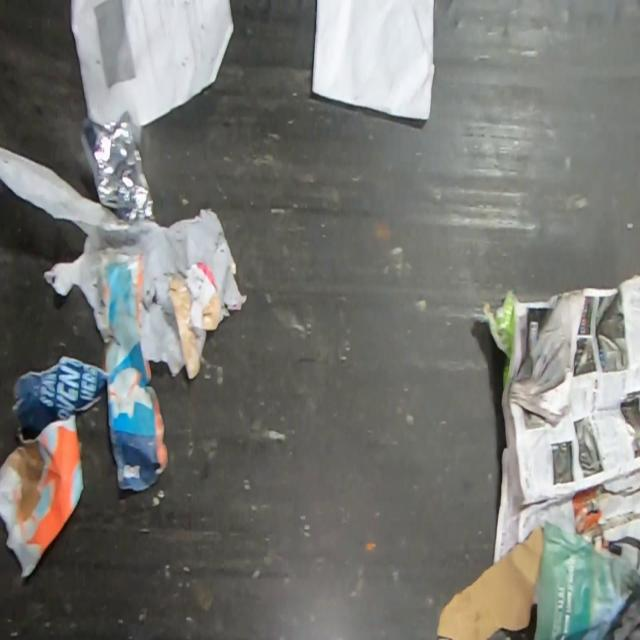cardboard: (436, 524, 545, 640)
metal: (75, 105, 156, 225)
soft_plastic: (0, 146, 248, 377)
